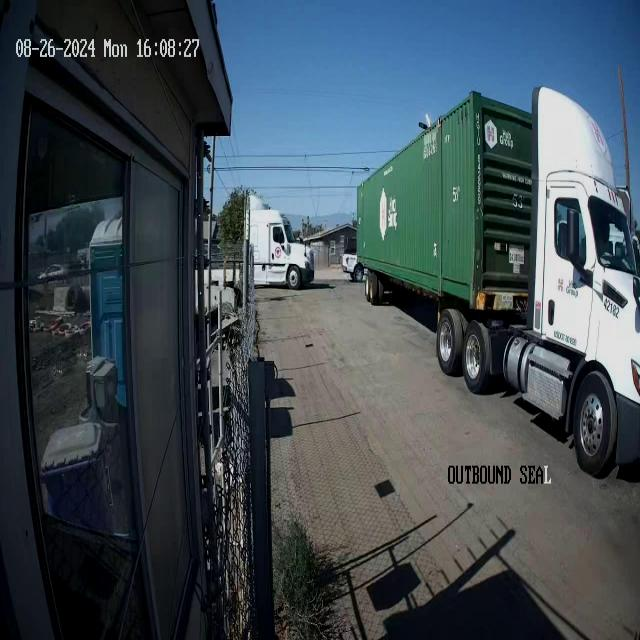CONTAINER: (356, 79, 538, 322)
